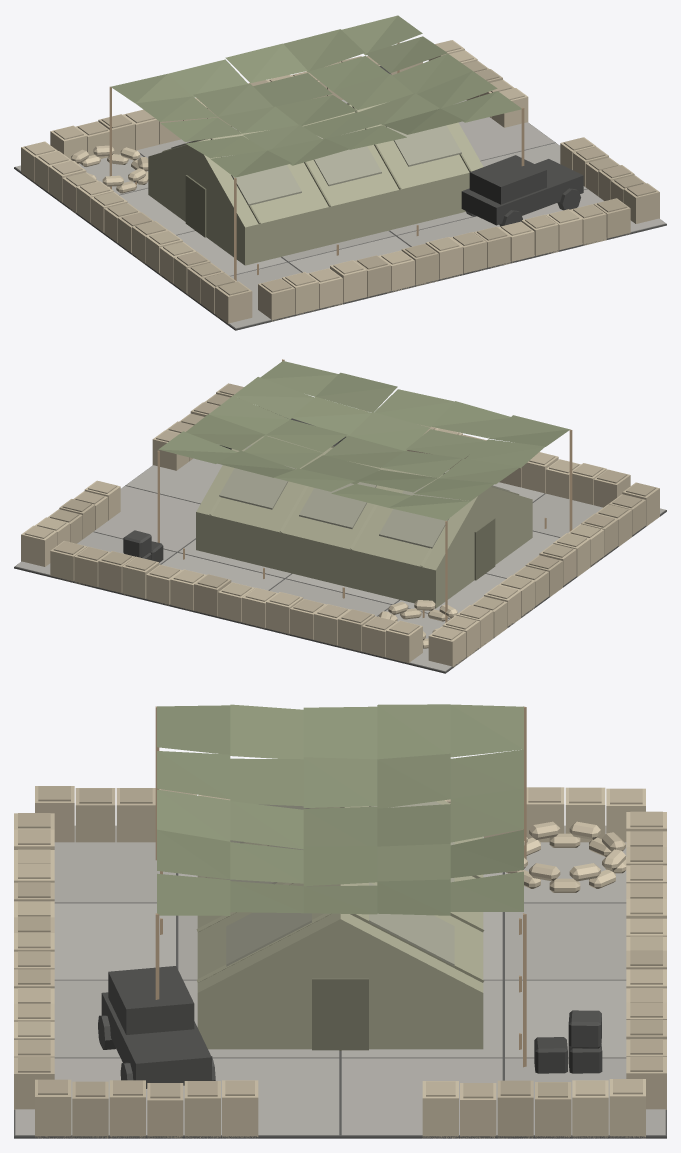
File: b_commandopost.glb
The picture shows the model from 3 angles, top to bottom: view 1: azimuth 30°, elevation 25°; view 2: azimuth 150°, elevation 25°; view 3: azimuth 270°, elevation 25°; orthographic projection. The views are drawn at different scales.
Parts seen in each view (by area): view 1: hull; view 2: hull; view 3: hull.
Part boxes in pixels (left/top/right/bottom): hull: left=14, top=15, right=666, bottom=330; hull: left=14, top=359, right=666, bottom=673; hull: left=14, top=704, right=666, bottom=1138.
Size of the model in its own units: 18 by 4.33 by 16.
